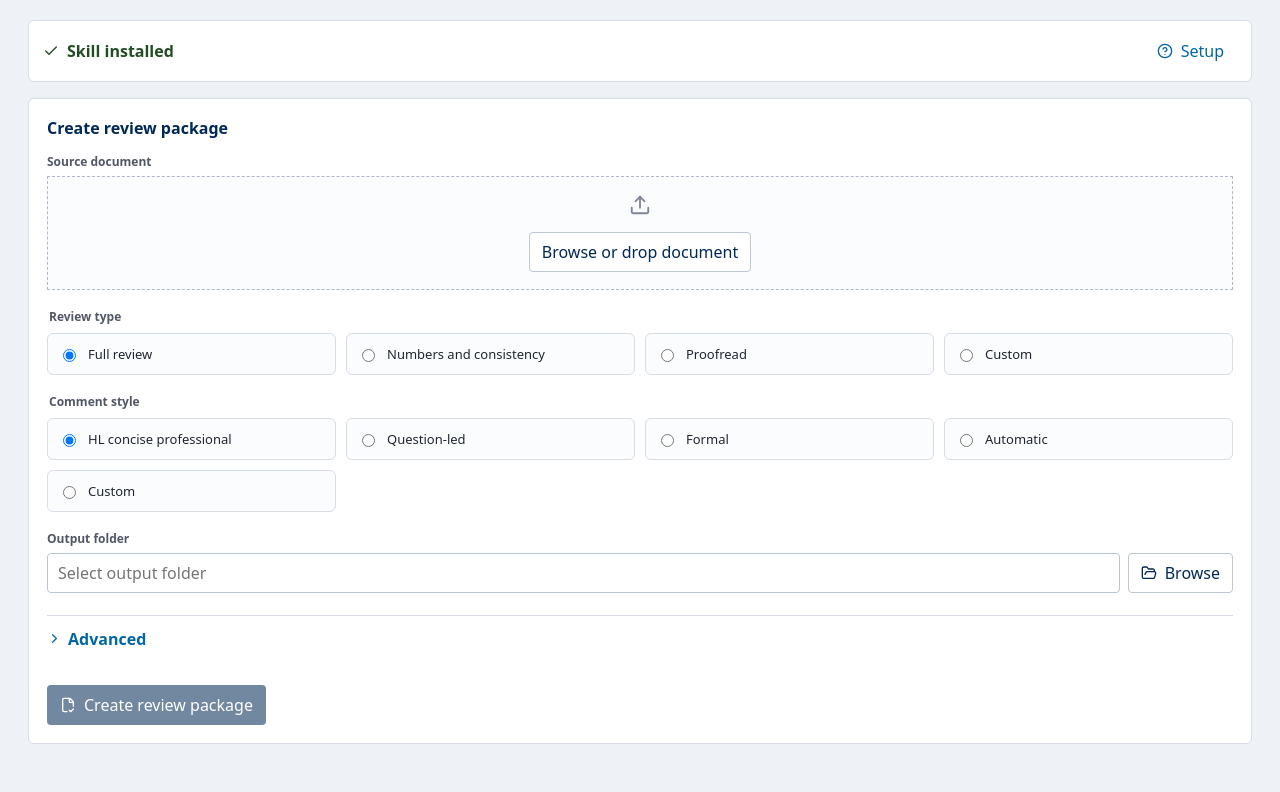
Test: application shell › keeps accessible names, labels, announcements, and reduced-motion support
(page scrolled)
Check: the text "Skill installed" is shown, box left=43, top=40, right=174, bottom=62
Step 1. Click the heading "Advanced" → (97, 639), box left=47, top=628, right=146, bottom=650
(page scrolled)
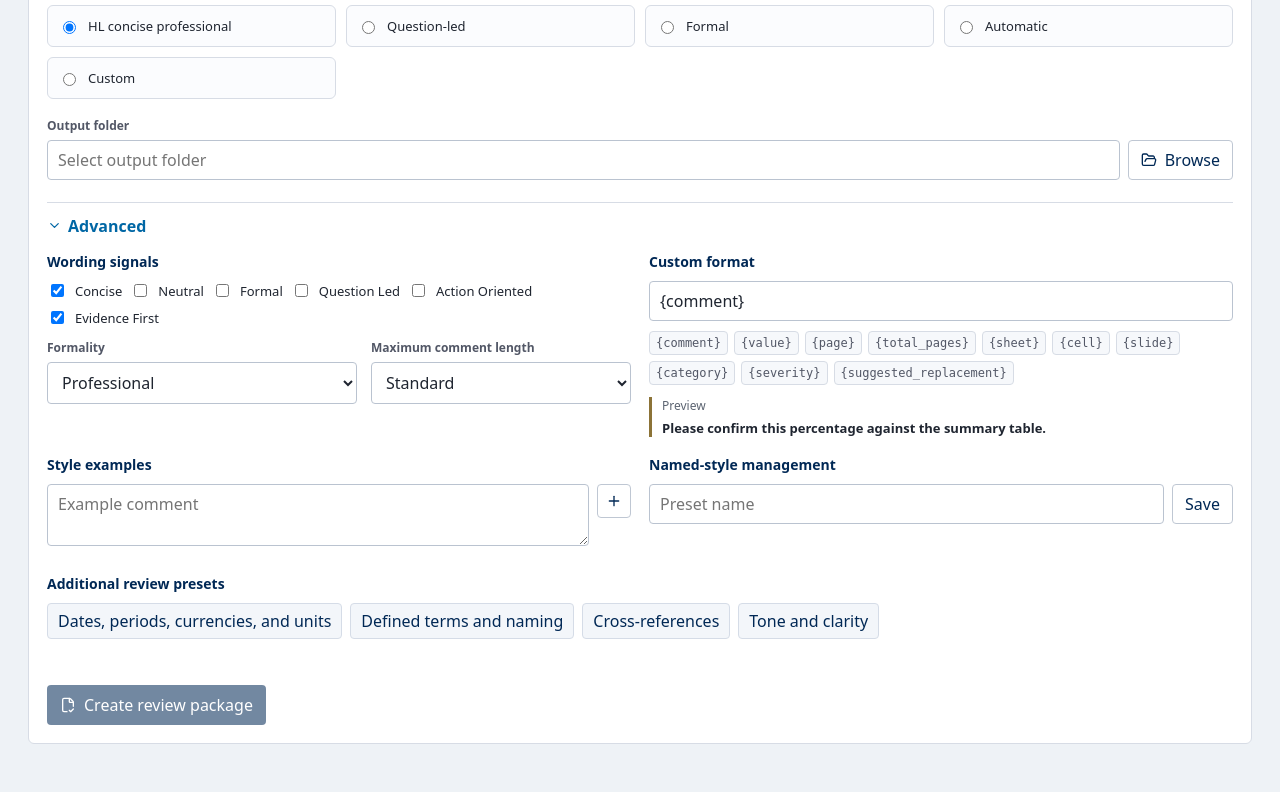
Check: the dropdown labelled "Maximum comment length" is shown, box left=371, top=362, right=631, bottom=404
Check: the text box with placeholder "Example comment" is shown, box left=47, top=484, right=589, bottom=546
